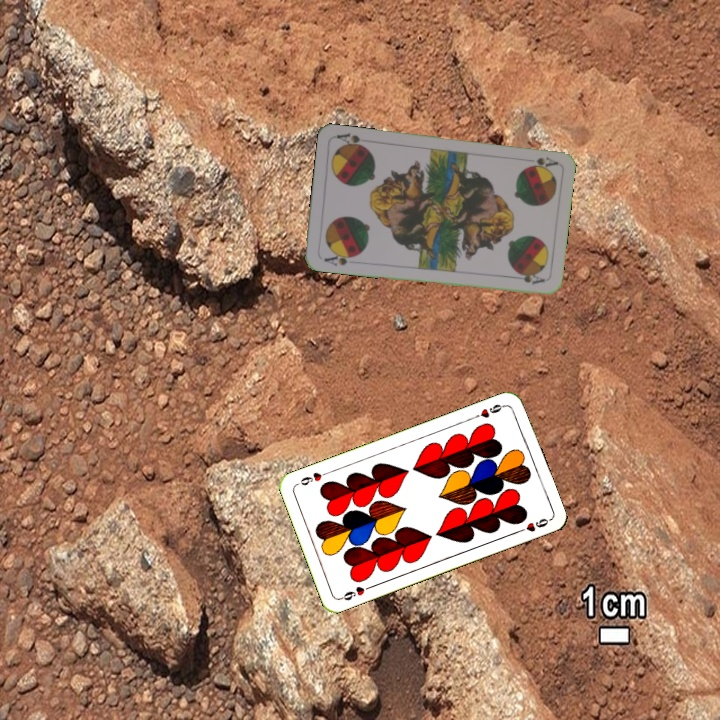H9: (336, 581, 375, 603), (469, 400, 508, 421)
SA: (320, 249, 359, 269), (519, 153, 560, 172)
